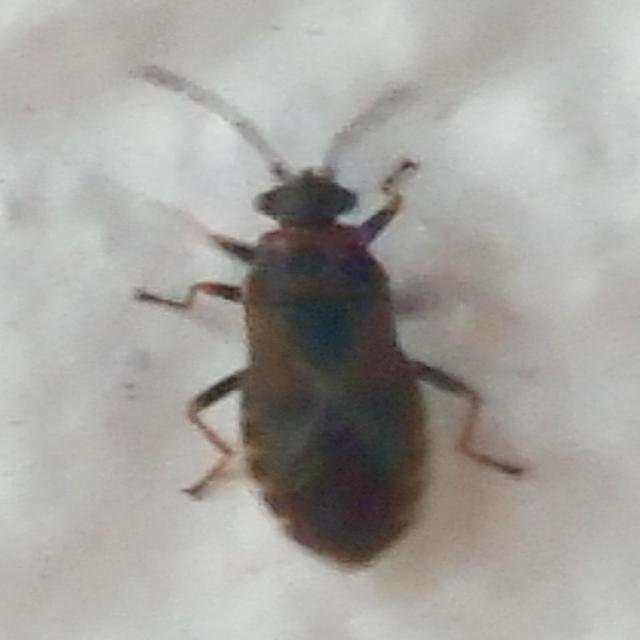Miridae-Adult-: (108, 66, 546, 580)
